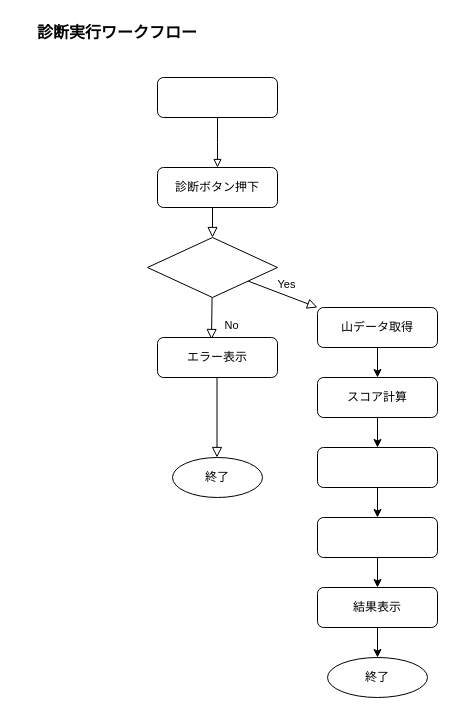
Image size: 455x715. Some labels were removed from this diagram. Here are the shapes that lost their labels. From the top down, the box of each, then its label:
(156, 76, 278, 118): 質問に回答
(146, 236, 278, 298): 回答済み？
(316, 446, 438, 488): 山選定
(316, 516, 438, 558): 理由生成
